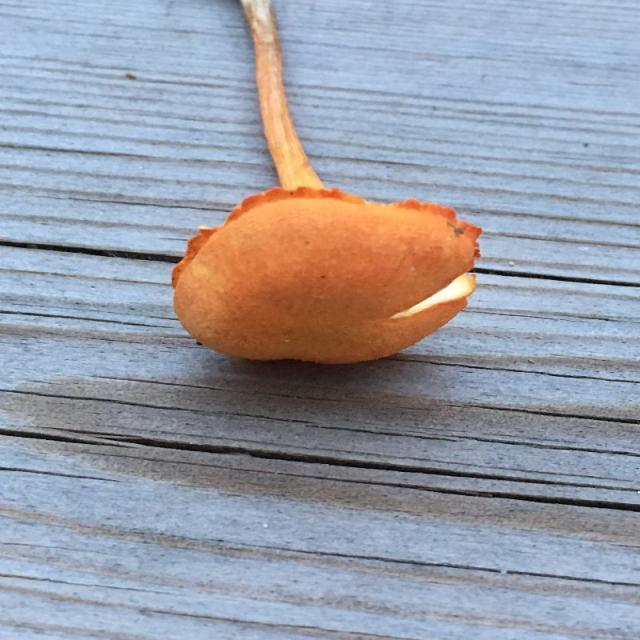Cantharellus cibarius: (171, 1, 485, 366)
